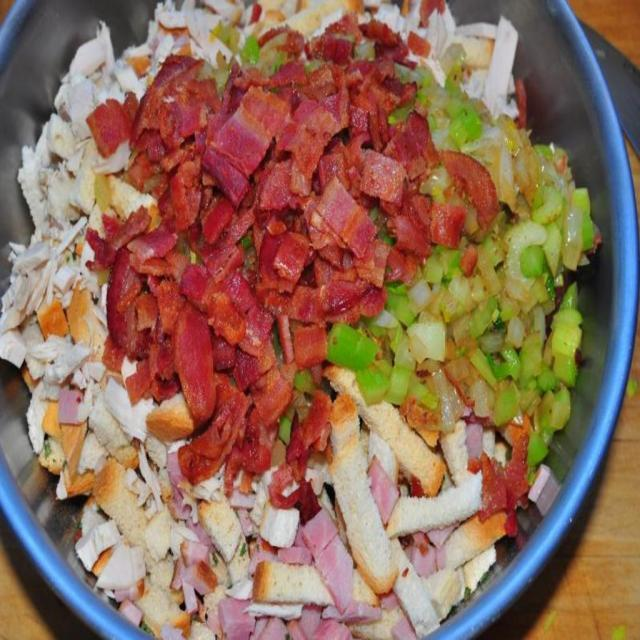Salad: (0, 0, 600, 639)
